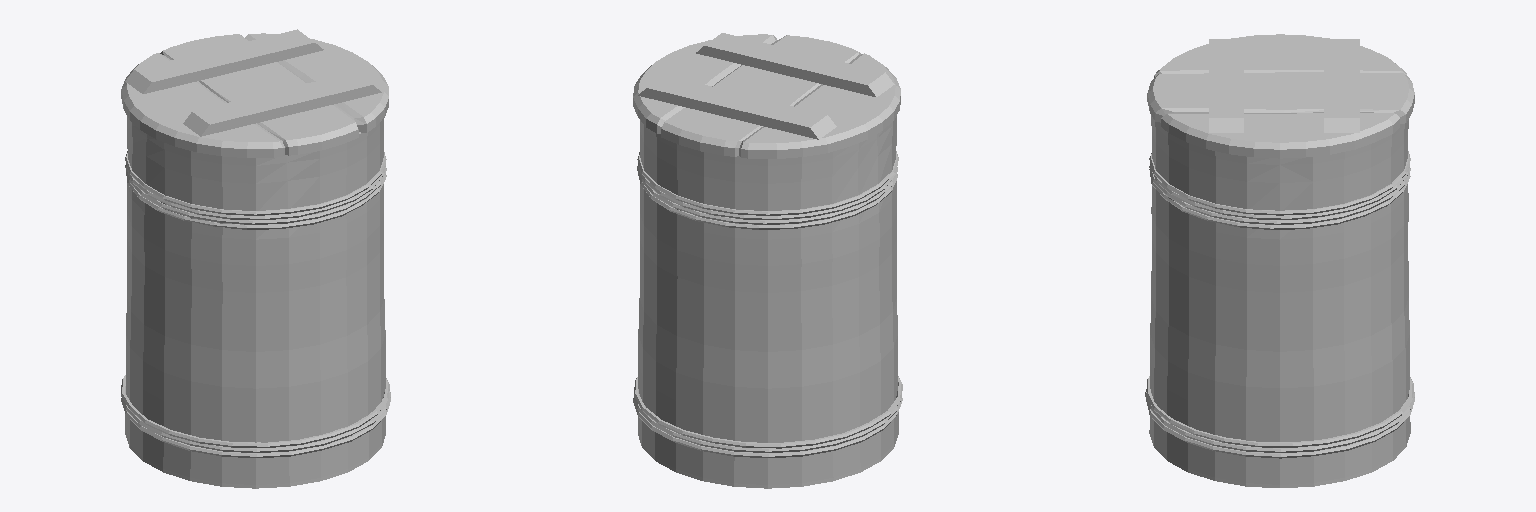
File: barrel_1.obj
The picture shows the model from 3 angles: view 1: azimuth 30°, elevation 25°; view 2: azimuth 150°, elevation 25°; view 3: azimuth 270°, elevation 25°; orthographic projection.
Parts seen in each view (by area): view 1: 01_2; view 2: 01_2; view 3: 01_2.
Part boxes in pixels (x1,y1,x2,y2): 01_2: (121,29,390,488); 01_2: (633,33,902,488); 01_2: (1145,34,1414,487).
Bounding box in the file's own units: 0.8315 × 1.2 × 0.8307.